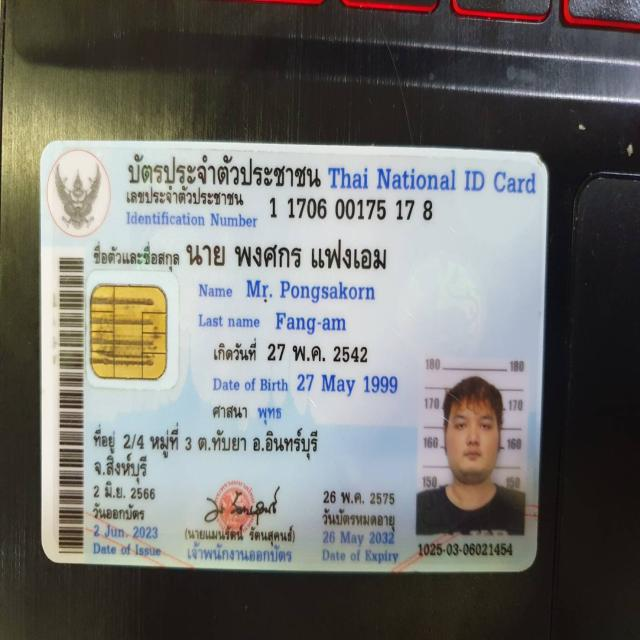Address_th: (91, 418, 323, 483)
Date_of_Birth: (290, 364, 406, 404)
Date_of_Expiry: (318, 526, 399, 548)
Date_of_Issue: (90, 520, 166, 543)
First_Name: (241, 271, 380, 308)
ID_Number: (264, 192, 440, 230)
Image: (421, 357, 525, 535)
Last_Name: (270, 309, 351, 339)
Thai_Name: (182, 230, 396, 274)
